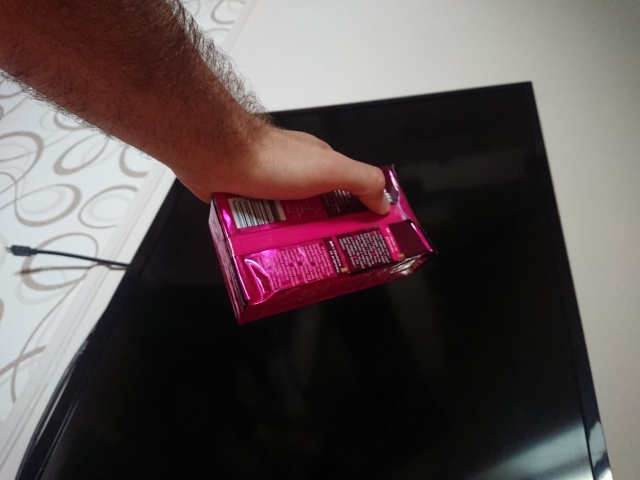Barcaffe Classic Original 225g: (206, 162, 440, 328)
